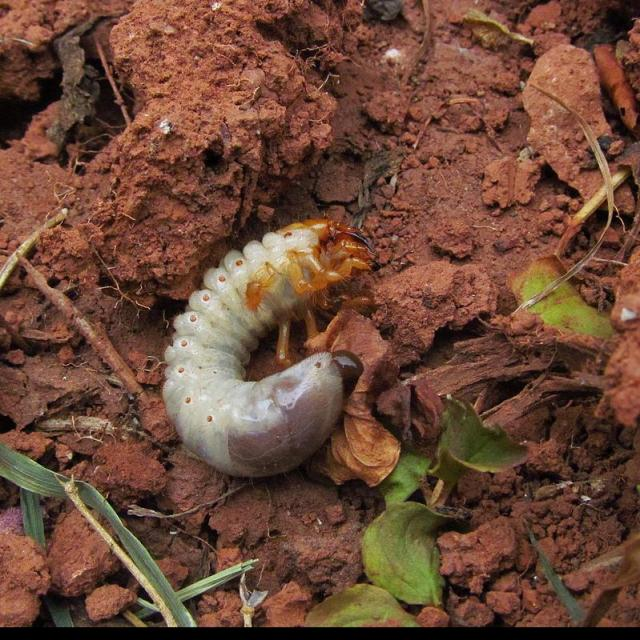Grub-Adult-: (147, 204, 390, 493)
